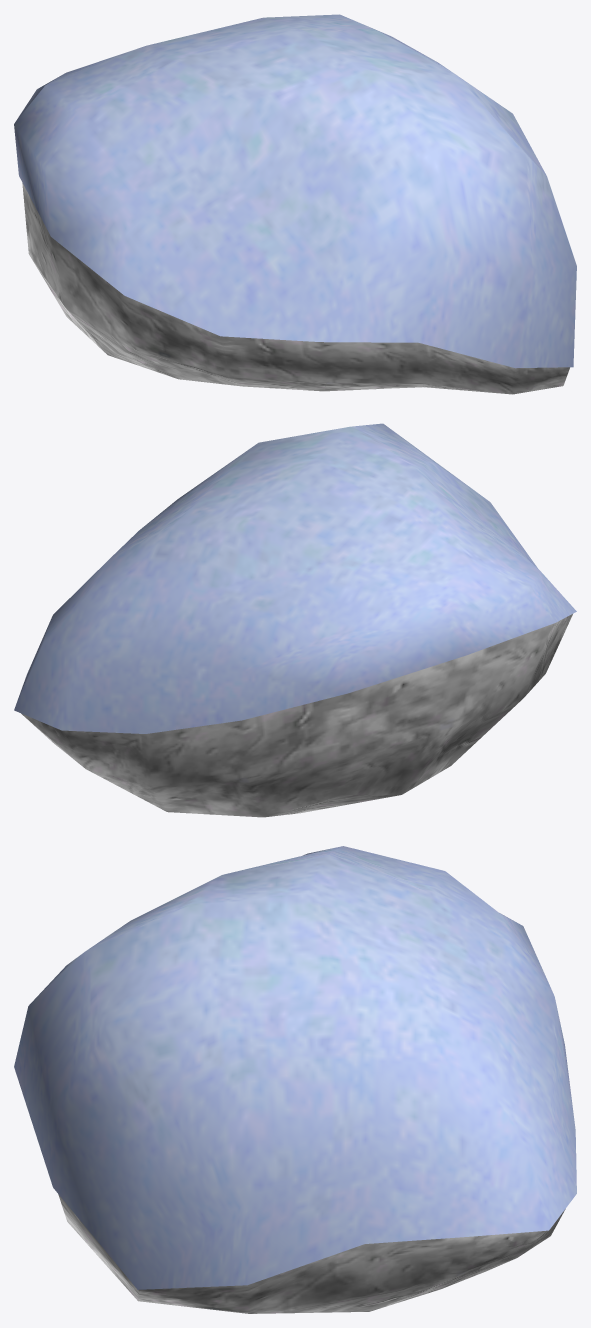
The model's file is INST_TROLLHOLE_ROCKGLOWC.fbx.
The picture shows the model from 3 angles, top to bottom: view 1: azimuth 30°, elevation 25°; view 2: azimuth 150°, elevation 25°; view 3: azimuth 270°, elevation 25°; orthographic projection. The views are drawn at different scales.
Visible parts, largest first — view 1: INST_TROLLHOLE_ROCKGLOWC; view 2: INST_TROLLHOLE_ROCKGLOWC; view 3: INST_TROLLHOLE_ROCKGLOWC.
Part boxes in pixels (<box>): INST_TROLLHOLE_ROCKGLOWC: <box>14,14,576,394</box>; INST_TROLLHOLE_ROCKGLOWC: <box>14,423,576,817</box>; INST_TROLLHOLE_ROCKGLOWC: <box>14,846,576,1313</box>.
Size of the model in its own units: 20054 by 13069 by 20054.
Materials: 2 (2 with a texture image).
